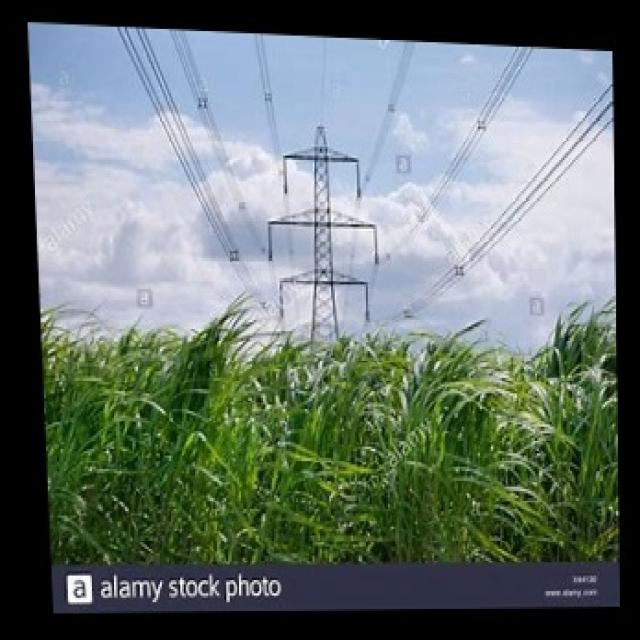utility poles: (259, 98, 382, 562)
